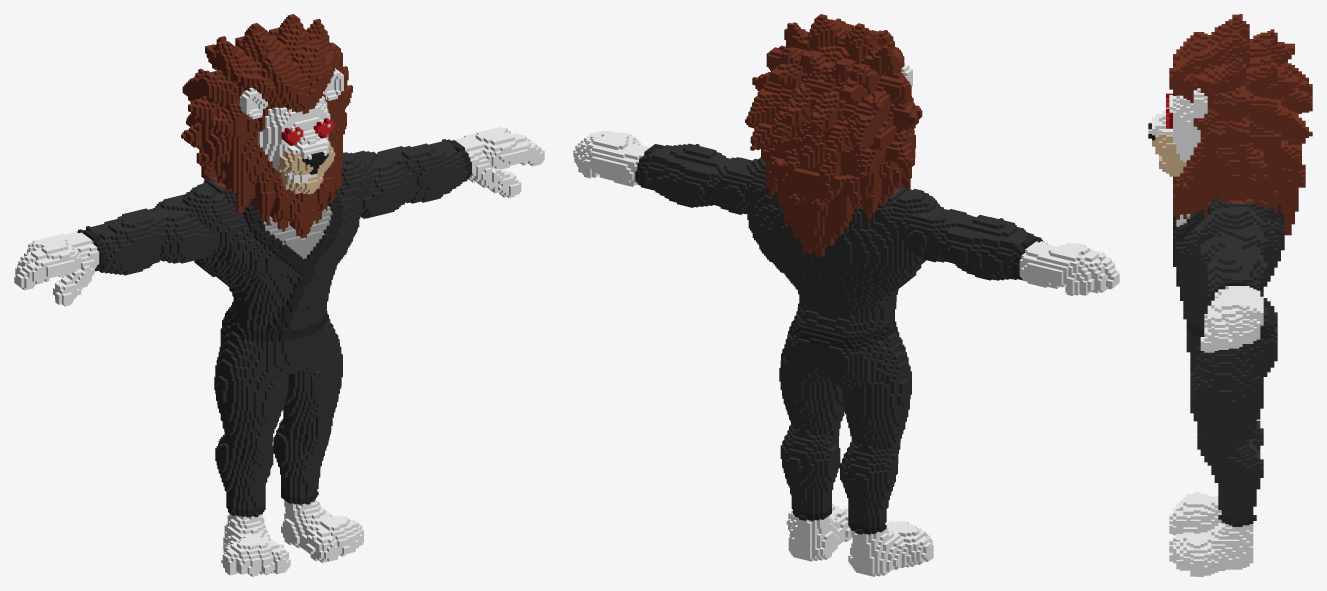
3 renders of one model, left to right at view 1: azimuth 30°, elevation 25°; view 2: azimuth 150°, elevation 25°; view 3: azimuth 270°, elevation 25°, orthographic. The views are drawn at different scales.
Parts seen in each view (by area): view 1: grin; view 2: grin; view 3: grin.
Boxes of the visible parts, x1,y1,x2,y2 form: grin: [14, 14, 544, 576]; grin: [573, 14, 1119, 576]; grin: [1148, 14, 1312, 576].
Bounding box in the file's own units: 17.2 × 16.5 × 4.7.
5 materials, 5 textured.
